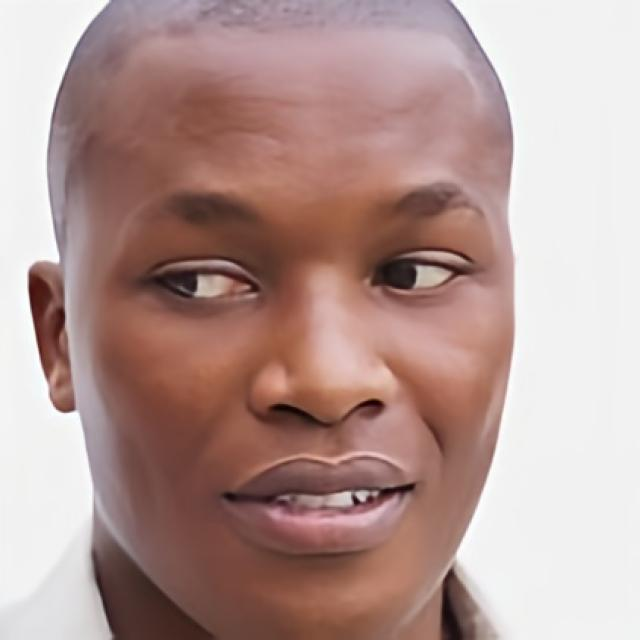content: (62, 33, 514, 640)
